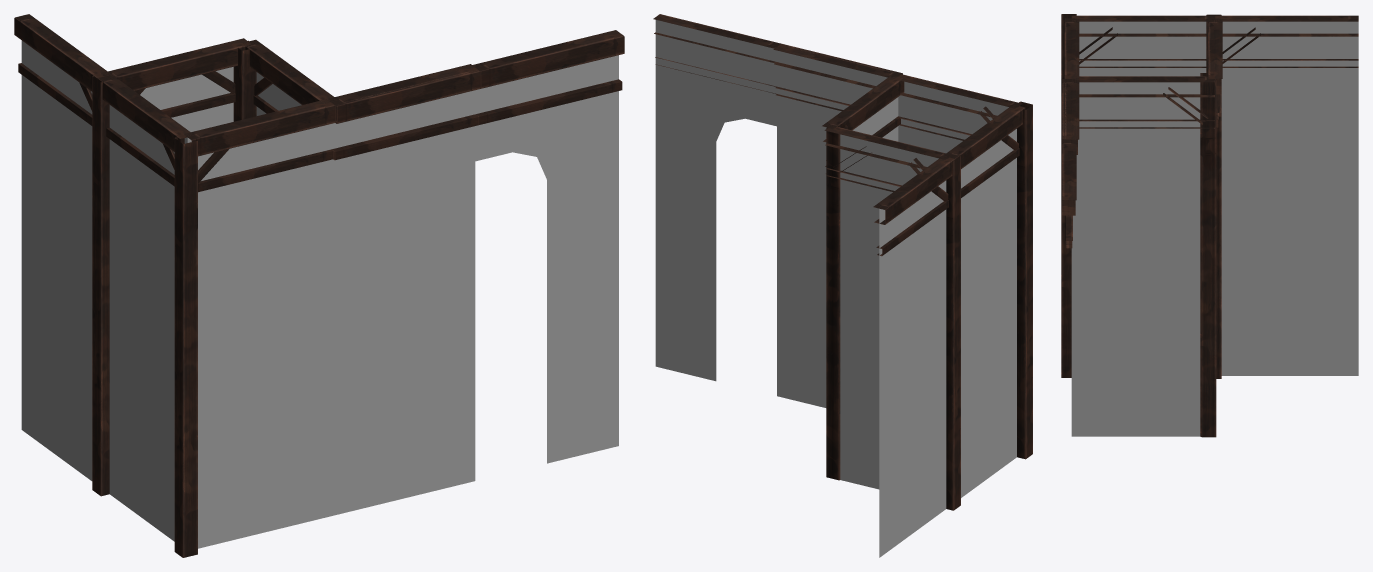
File: gg_wall.fbx
The picture shows the model from 3 angles, left to right: view 1: azimuth 30°, elevation 25°; view 2: azimuth 150°, elevation 25°; view 3: azimuth 270°, elevation 25°; orthographic projection. The views are drawn at different scales.
Visible parts, largest first — view 1: gg_wall_g, gg_wall, gg_wall_door, gg_wall_z, gg_wallg; view 2: gg_wall_z, gg_wall_door, gg_wall_g, gg_wall, gg_wallg; view 3: gg_wall_z, gg_wall_g, gg_wallg, gg_wall_door, gg_wall.
Part boxes in pixels (x1,y1,x2,y2): gg_wall_g: [97, 75, 335, 557]; gg_wall: [327, 64, 478, 515]; gg_wall_door: [331, 30, 624, 515]; gg_wall_z: [14, 14, 334, 496]; gg_wallg: [109, 39, 333, 131]; gg_wall_z: [822, 76, 960, 557]; gg_wall_door: [653, 14, 902, 381]; gg_wall_g: [898, 74, 1032, 497]; gg_wall: [773, 45, 900, 407]; gg_wallg: [823, 75, 945, 480]; gg_wall_z: [1071, 14, 1358, 436]; gg_wall_g: [1061, 14, 1214, 377]; gg_wallg: [1079, 20, 1222, 437]; gg_wall_door: [1062, 79, 1076, 248]; gg_wall: [1065, 79, 1079, 154].
Bounding box in the file's own units: 307 × 275 × 207.
